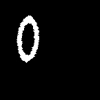chain: (17, 16, 38, 61)
